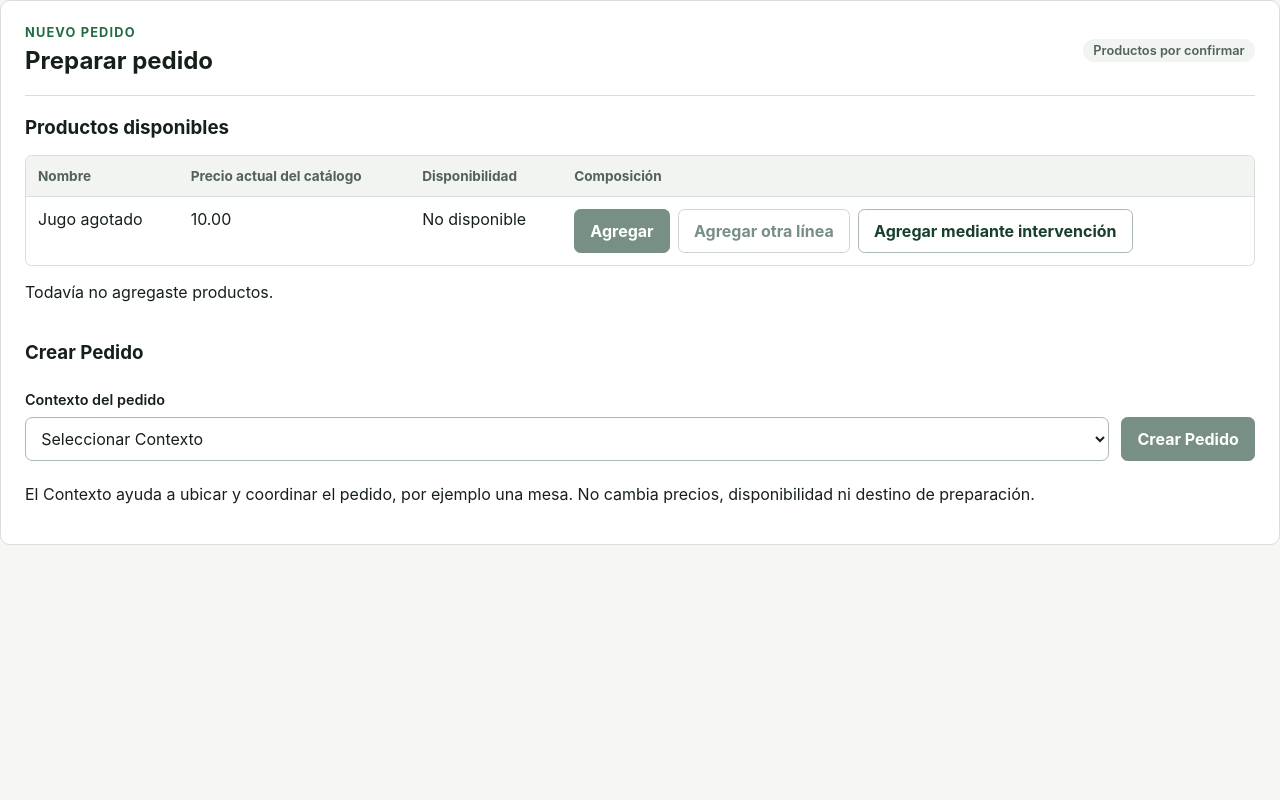
it: OrderWorkflow - Composición y Primera Confirmación › removes an exceptional line and only recreates that intent through the explicit action
Step 1. Click the button with aria-label "Agregar Jugo agotado mediante intervención a Preparar pedido" → (995, 231), box [858, 209, 1133, 253]
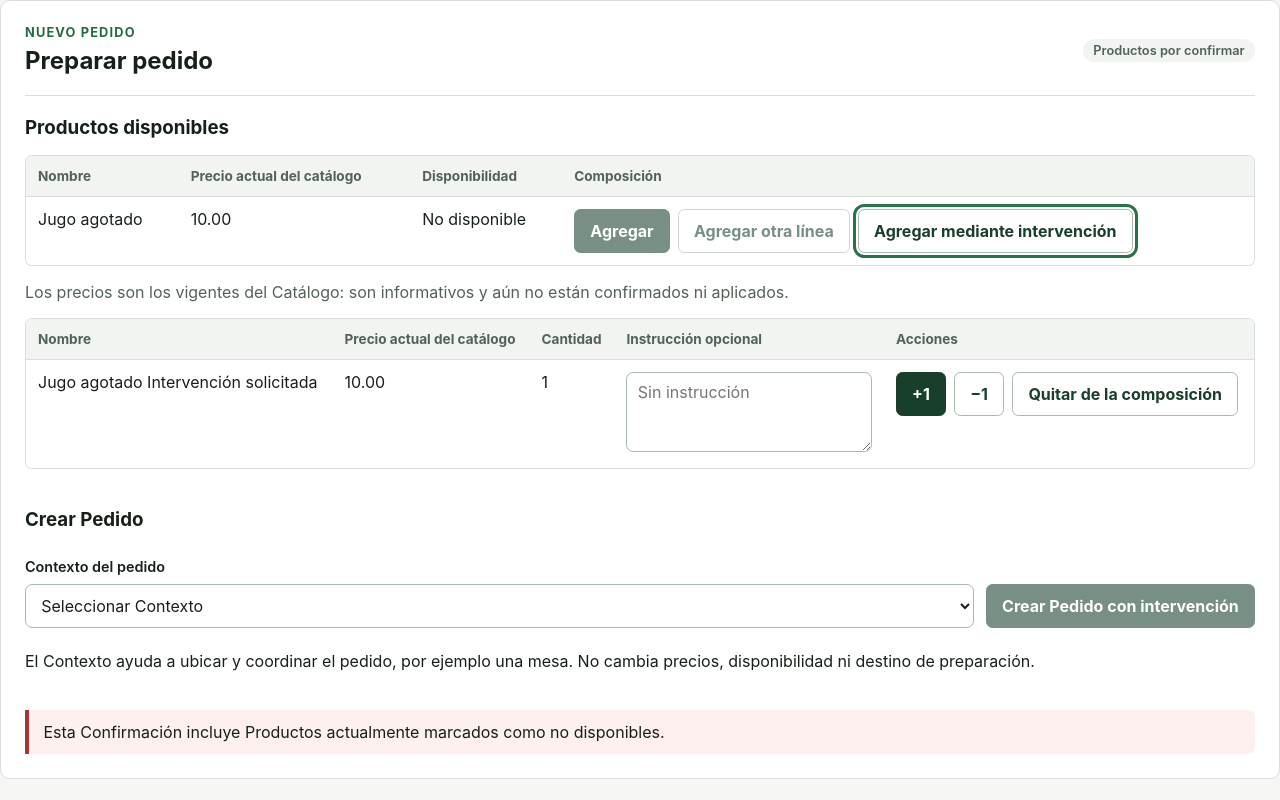
Step 2. Click the button with aria-label "Quitar de la composición Jugo agotado, línea 1" → (1125, 394), box [1012, 372, 1238, 416]
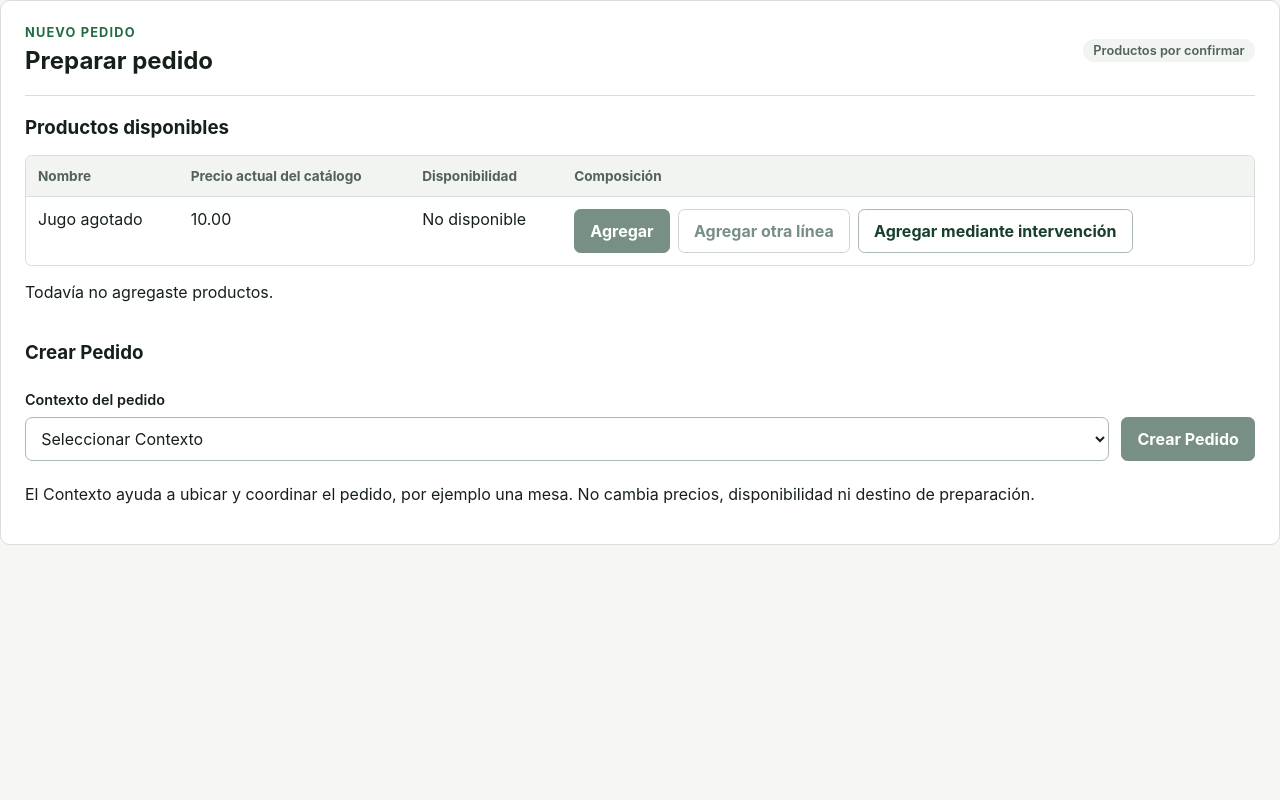
Expected: the text "Intervención solicitada" is gone
Step 3. Click the button with aria-label "Agregar Jugo agotado mediante intervención a Preparar pedido" → (995, 231), box [858, 209, 1133, 253]
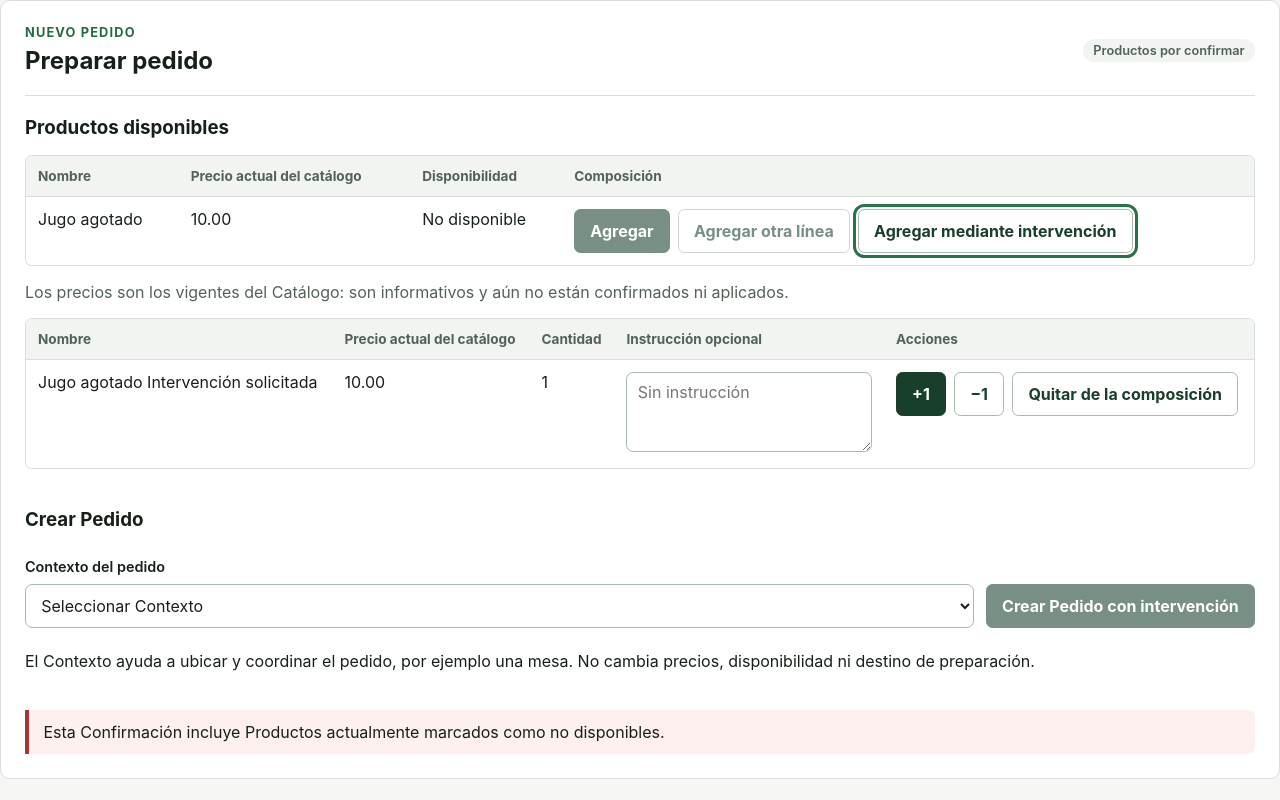
Expected: the text "Intervención solicitada" is shown, [143, 372, 317, 392]
